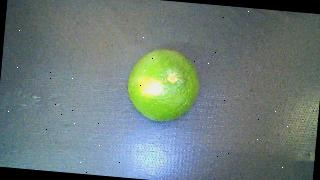EXPORTACION: (125, 46, 202, 124)
